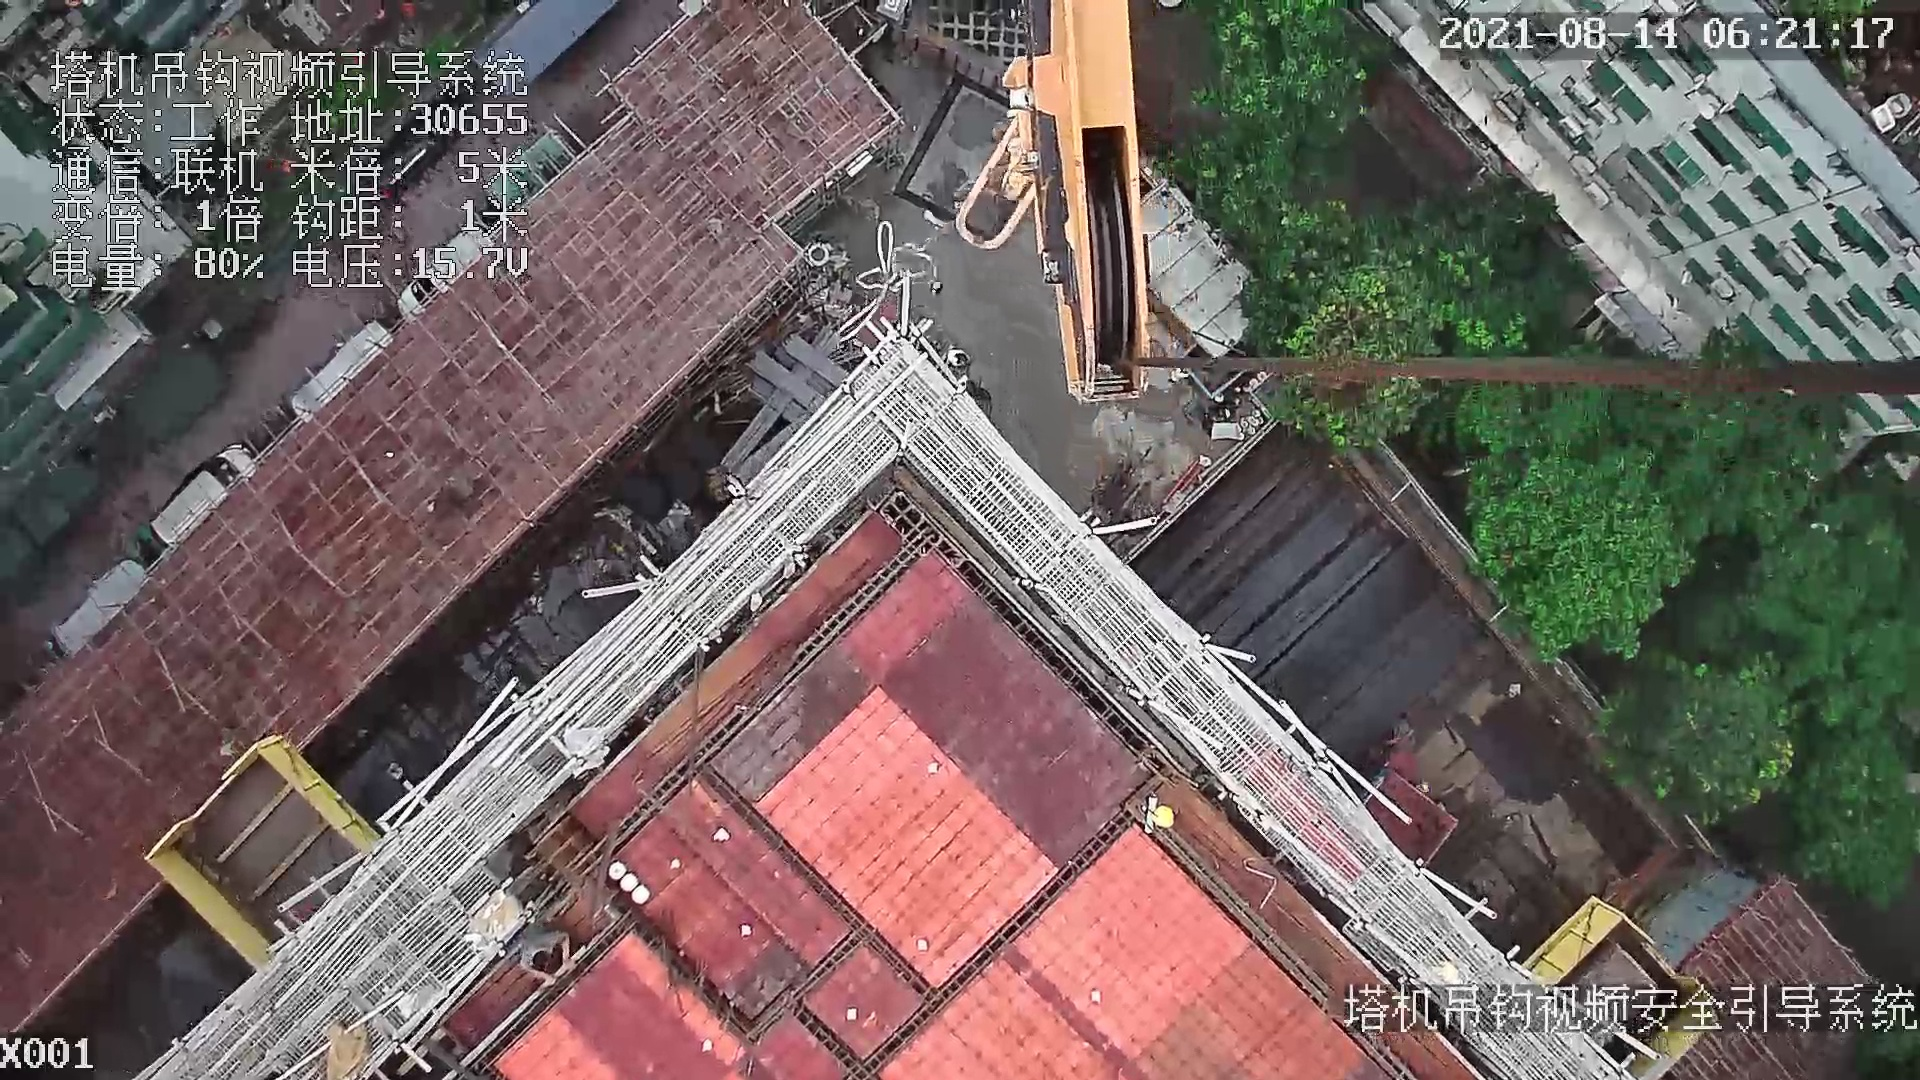hook: (1013, 1, 1151, 407)
